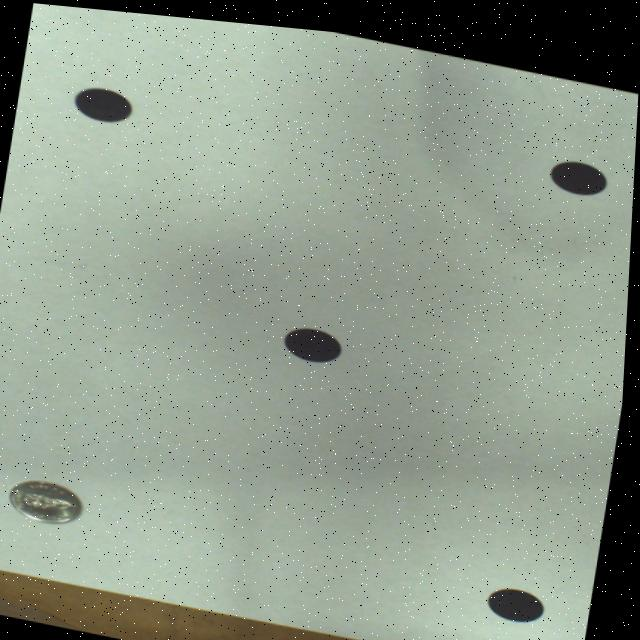space: (286, 321, 345, 355), (75, 85, 132, 120), (550, 149, 607, 183), (492, 577, 549, 610)
tail1bath: (14, 479, 86, 522)
